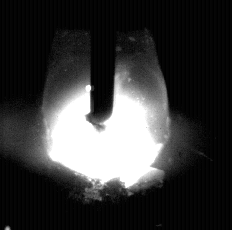arame: (91, 0, 115, 131)
poca: (43, 0, 172, 230)
